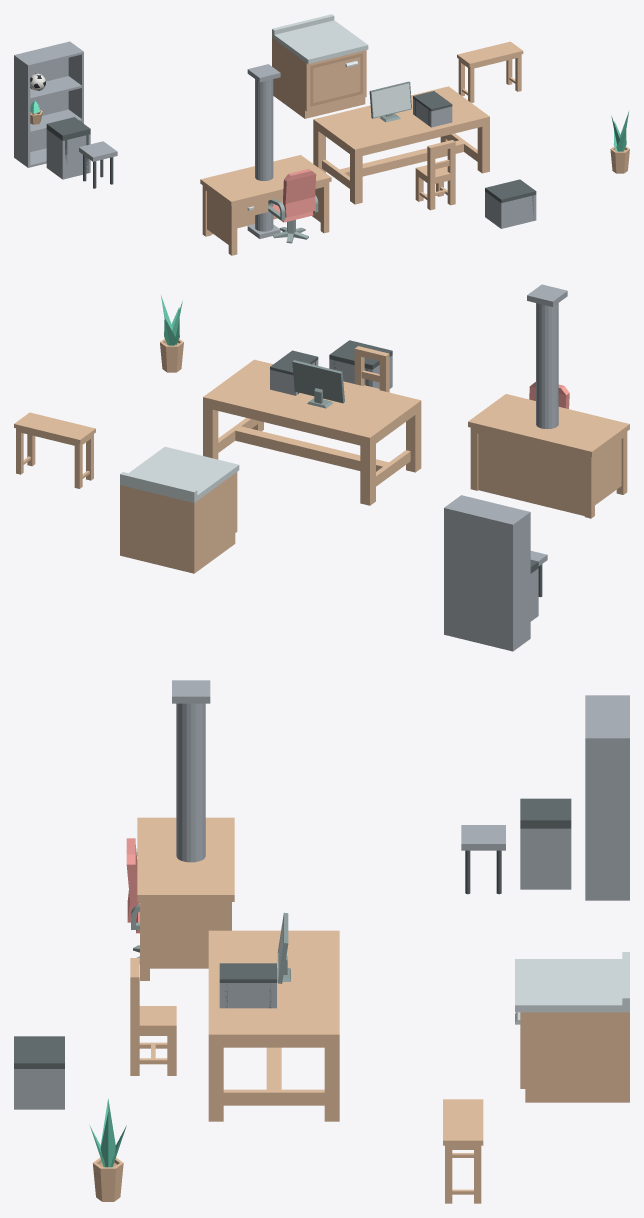
The picture shows the model from 3 angles, top to bottom: view 1: azimuth 30°, elevation 25°; view 2: azimuth 150°, elevation 25°; view 3: azimuth 270°, elevation 25°; orthographic projection. The views are drawn at different scales.
Visible parts, largest first — view 1: table_green__table(Clone), cabinet_blue__kitchenCabinet(Clone), desk_blue__desk(Clone), column_cyan__column_cyan shaft, cabinet_blue__door, chair_cyan__chair(Clone), sidetable_brown__sideTable(Clone), deskchair_black__chair, shelf_orange__shelf_orange side_l, shelf_orange__shelf_orange back, bin_gray__bin_gray shell, crate_red__crate_red shell (+14 smaller); view 2: table_green__table(Clone), desk_blue__desk(Clone), cabinet_blue__kitchenCabinet(Clone), shelf_orange__shelf_orange back, sidetable_brown__sideTable(Clone), column_cyan__column_cyan shaft, shelf_orange__shelf_orange side_l, monitor_gray__computerScreen(Clone), chair_cyan__chair(Clone), shelf_orange__shelf_orange board3, crate_red__crate_red lid, crate_red__crate_red shell (+5 smaller); view 3: table_green__table(Clone), cabinet_blue__kitchenCabinet(Clone), desk_blue__desk(Clone), shelf_orange__shelf_orange side_r, column_cyan__column_cyan shaft, bin_gray__bin_gray shell, sidetable_brown__sideTable(Clone), chair_cyan__chair(Clone), crate_red__crate_red shell, shelf_orange__shelf_orange board3, crate_red__crate_red lid, bin_gray__bin_gray lid (+7 smaller).
Boxes of the visible parts, x1,y1,x2,y2 form: table_green__table(Clone): (313, 86, 489, 204); cabinet_blue__kitchenCabinet(Clone): (272, 14, 368, 118); desk_blue__desk(Clone): (200, 155, 331, 255); column_cyan__column_cyan shaft: (255, 79, 273, 231); cabinet_blue__door: (310, 53, 362, 106); chair_cyan__chair(Clone): (415, 140, 455, 210); sidetable_brown__sideTable(Clone): (457, 41, 523, 102); deskchair_black__chair: (268, 169, 318, 222); shelf_orange__shelf_orange side_l: (14, 54, 30, 167); shelf_orange__shelf_orange back: (16, 42, 68, 151); bin_gray__bin_gray shell: (46, 129, 90, 179); crate_red__crate_red shell: (485, 191, 536, 228); table_green__table(Clone): (203, 359, 421, 505); desk_blue__desk(Clone): (468, 394, 629, 518); cabinet_blue__kitchenCabinet(Clone): (120, 446, 239, 573); shelf_orange__shelf_orange back: (446, 508, 510, 650); sidetable_brown__sideTable(Clone): (14, 412, 95, 488); column_cyan__column_cyan shaft: (536, 303, 558, 428); shelf_orange__shelf_orange side_l: (510, 511, 530, 651); monitor_gray__computerScreen(Clone): (292, 360, 344, 408); chair_cyan__chair(Clone): (354, 346, 389, 392); shelf_orange__shelf_orange board3: (448, 496, 527, 523); crate_red__crate_red lid: (329, 340, 392, 369); crate_red__crate_red shell: (329, 355, 392, 388); table_green__table(Clone): (208, 930, 339, 1121); cabinet_blue__kitchenCabinet(Clone): (515, 952, 629, 1102); desk_blue__desk(Clone): (137, 817, 234, 980); shelf_orange__shelf_orange side_r: (585, 737, 629, 900); column_cyan__column_cyan shaft: (176, 703, 205, 862); bin_gray__bin_gray shell: (520, 828, 571, 889); sidetable_brown__sideTable(Clone): (443, 1099, 483, 1203); chair_cyan__chair(Clone): (130, 958, 176, 1075); crate_red__crate_red shell: (14, 1069, 64, 1109); shelf_orange__shelf_orange board3: (585, 697, 627, 736); crate_red__crate_red lid: (14, 1036, 64, 1068); bin_gray__bin_gray lid: (520, 798, 571, 828).
Bounding box in the file's own units: 6.43 × 2.2 × 4.82.
